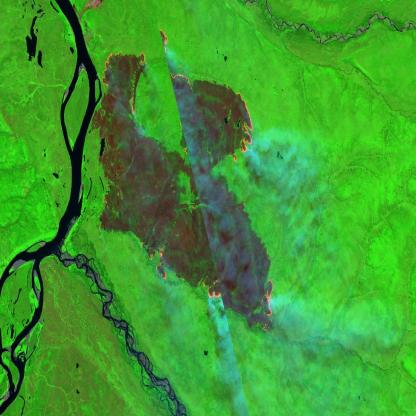fire: (93, 26, 285, 337)
